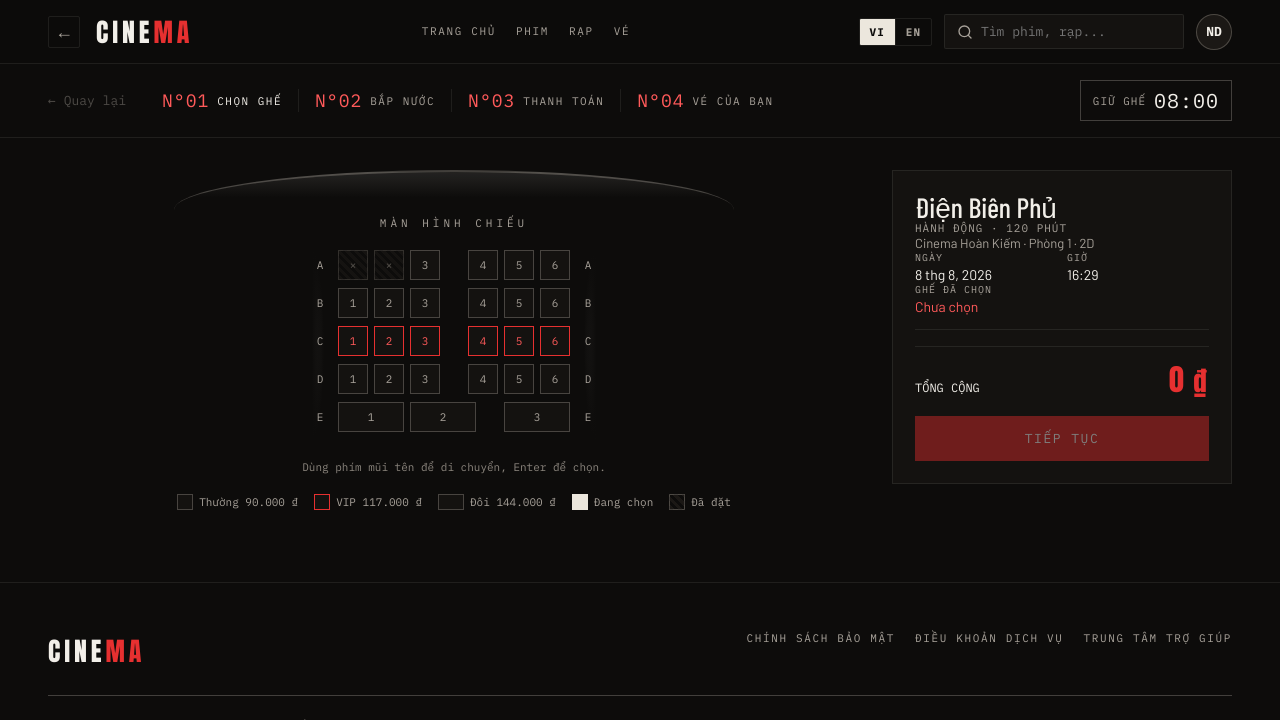
Scenario: BookingWizard — bước ① chọn ghế › ghế VIP tính theo giá VIP (×1.3 làm tròn nghìn)
The width and height of the screenshot is (1280, 720).
Expected: the heading "Điện Biên Phủ" is shown, [915, 190, 1057, 224]
Click the 2nd cell "1" at (353, 341), box [338, 326, 368, 356]
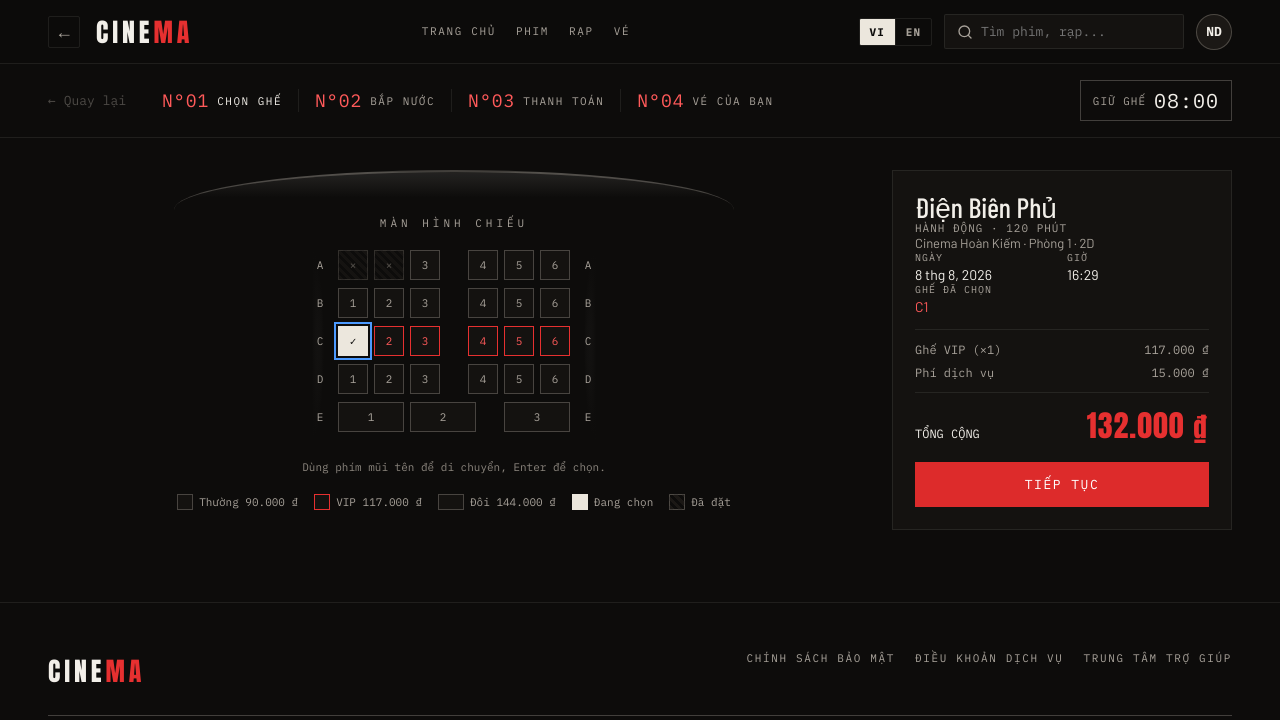
Now the text "Ghế VIP (×1)" is shown, box [915, 342, 1001, 357]
